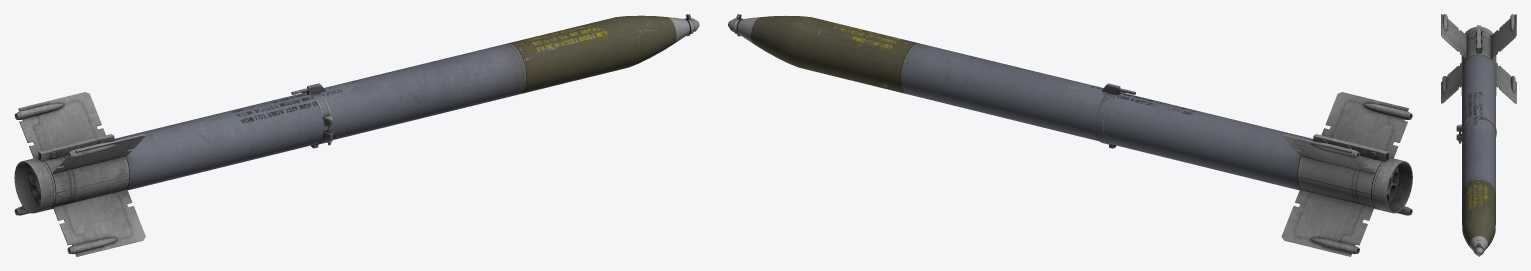
The model's file is hvar_rocket.glb.
3 renders of one model, left to right at view 1: azimuth 30°, elevation 25°; view 2: azimuth 150°, elevation 25°; view 3: azimuth 270°, elevation 25°, orthographic. The views are drawn at different scales.
Parts seen in each view (by area): view 1: Object_2; view 2: Object_2; view 3: Object_2.
Part boxes in pixels (x1,y1,x2,y2): Object_2: (14, 14, 699, 256); Object_2: (728, 14, 1412, 256); Object_2: (1441, 14, 1516, 256).
Size of the model in its own units: 1.83 by 0.2777 by 0.2777.
Materials: 1 (1 with a texture image).
